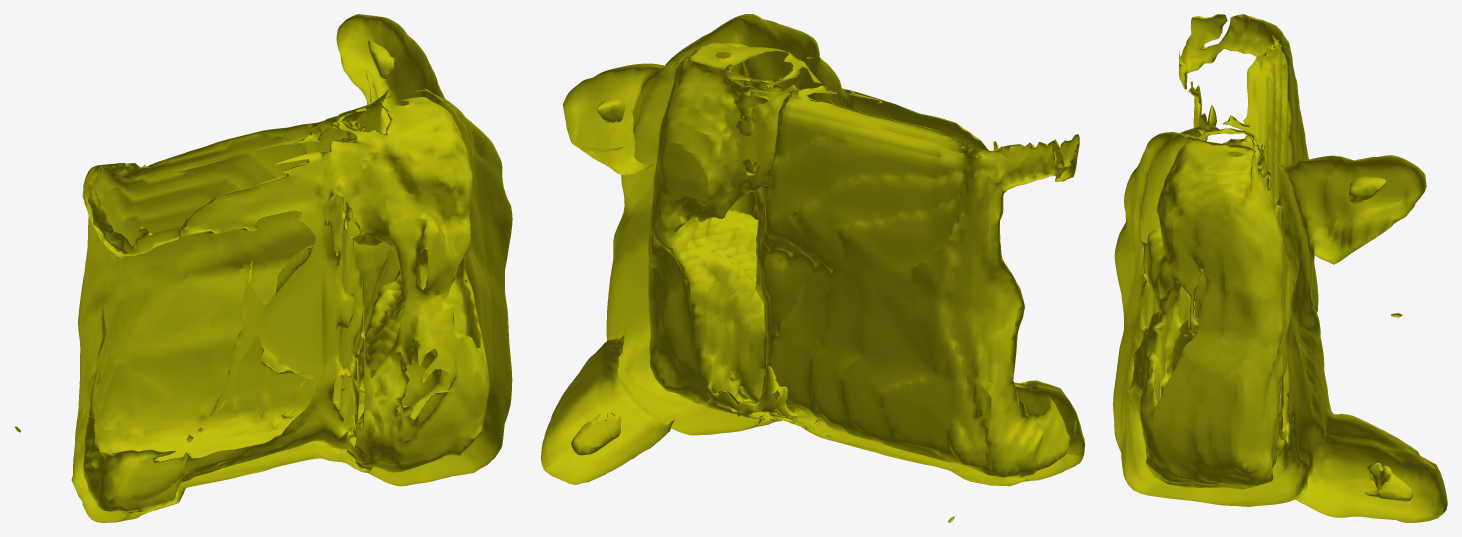
3 renders of one model, left to right at view 1: azimuth 30°, elevation 25°; view 2: azimuth 150°, elevation 25°; view 3: azimuth 270°, elevation 25°, orthographic. The views are drawn at different scales.
Parts seen in each view (by area): view 1: world; view 2: world; view 3: world.
Part boxes in pixels (left/top/right/bottom): world: left=15, top=14, right=512, bottom=522; world: left=541, top=14, right=1084, bottom=522; world: left=1113, top=14, right=1447, bottom=522.
Size of the model in its own units: 72.99 by 61.8 by 52.
